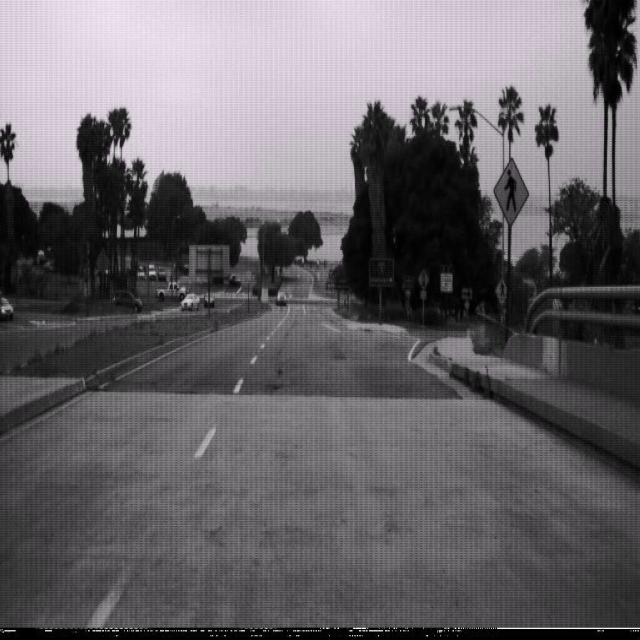pedestrianCrossing: (493, 156, 529, 227)
